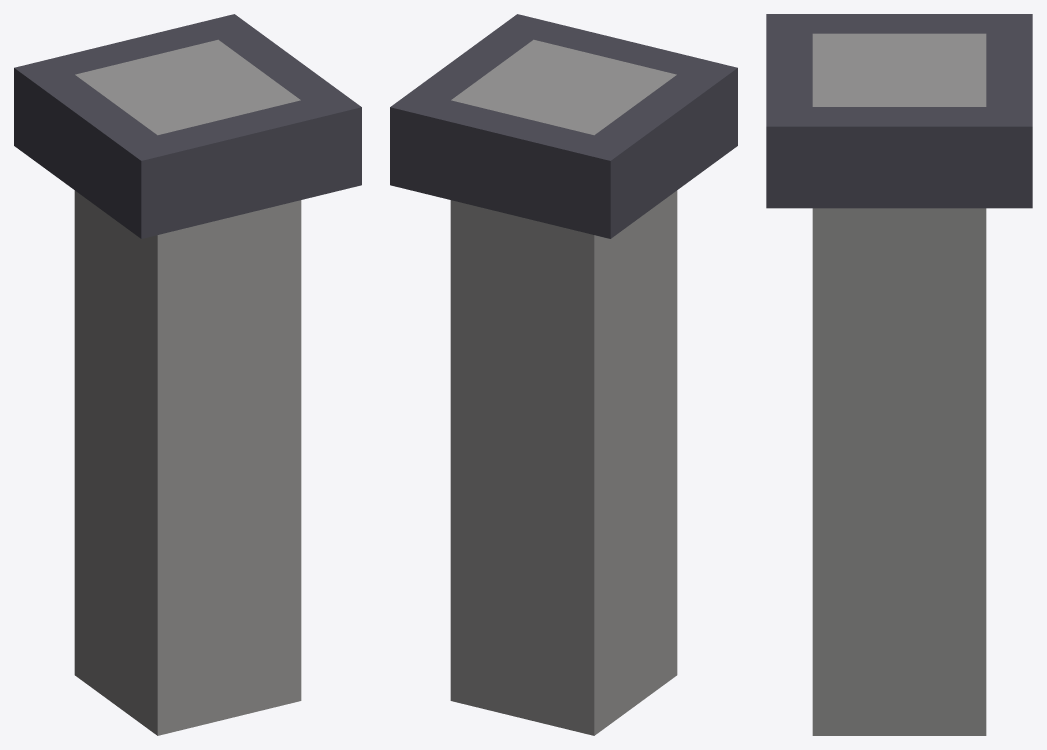
The model's file is column1.FBX.
3 views of the same model, side by side, from view 1: azimuth 30°, elevation 25°; view 2: azimuth 150°, elevation 25°; view 3: azimuth 270°, elevation 25° (orthographic). The views are drawn at different scales.
Parts seen in each view (by area): view 1: column1; view 2: column1; view 3: column1.
Boxes of the visible parts, bbox=[...] form: column1: bbox=[14, 14, 361, 735]; column1: bbox=[390, 14, 737, 735]; column1: bbox=[766, 14, 1032, 735].
Size of the model in its own units: 1.54 by 4 by 1.54.
